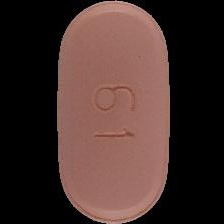65862-547: (0, 0, 224, 224)
